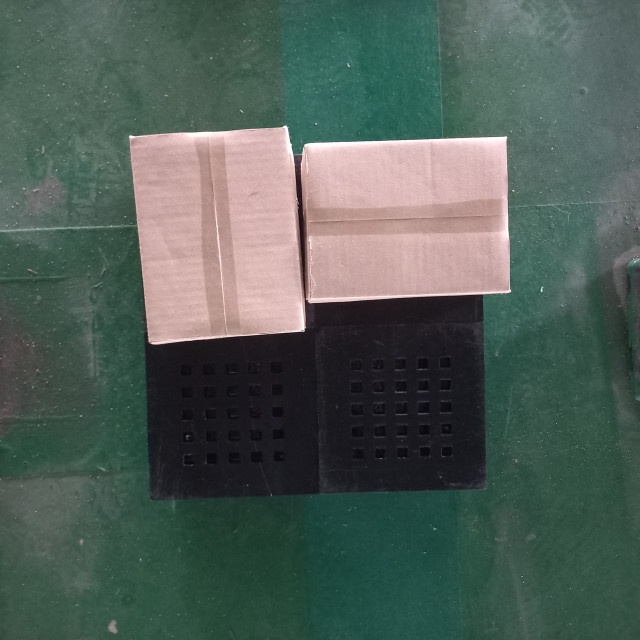box: (124, 118, 308, 353), (298, 133, 514, 308)
